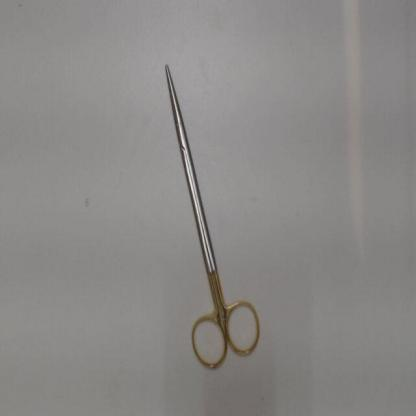7 Metzenbaum Scissors: (164, 61, 261, 371)
